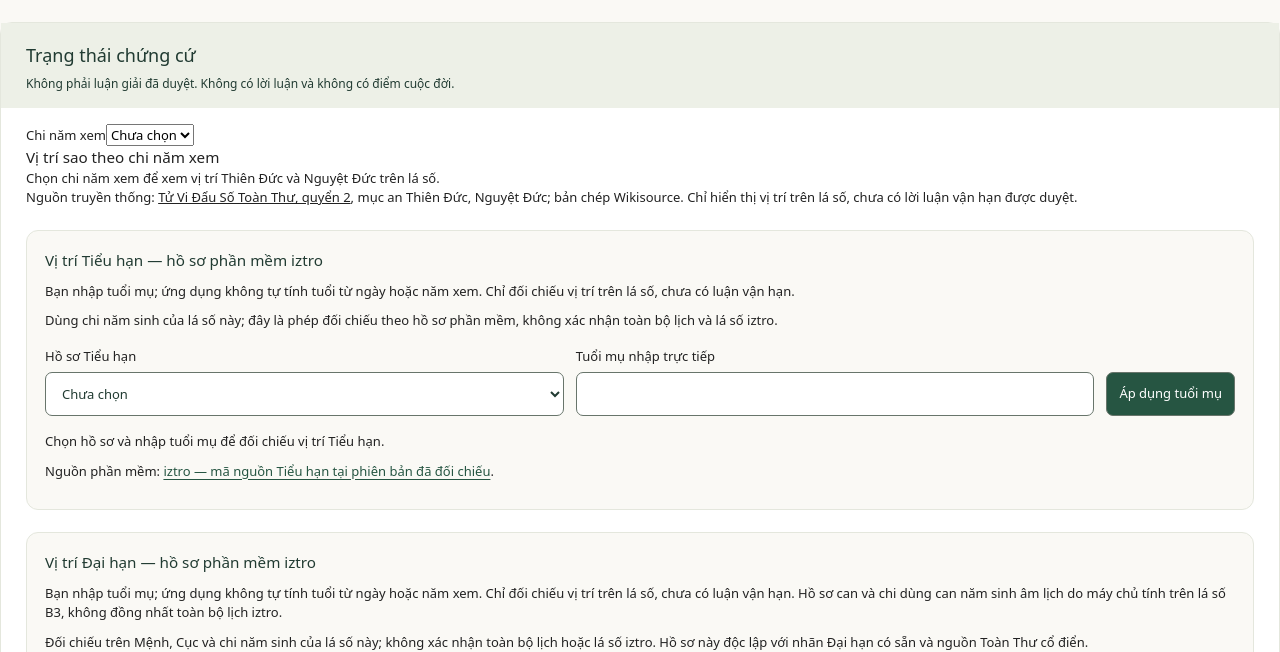
Test: StructuredAnalysis › ignores the late placement for a previously selected year
The image size is (1280, 652).
Select "Tí" in the dropdown labelled "Chi năm xem" at [150, 135], box [106, 124, 194, 146]
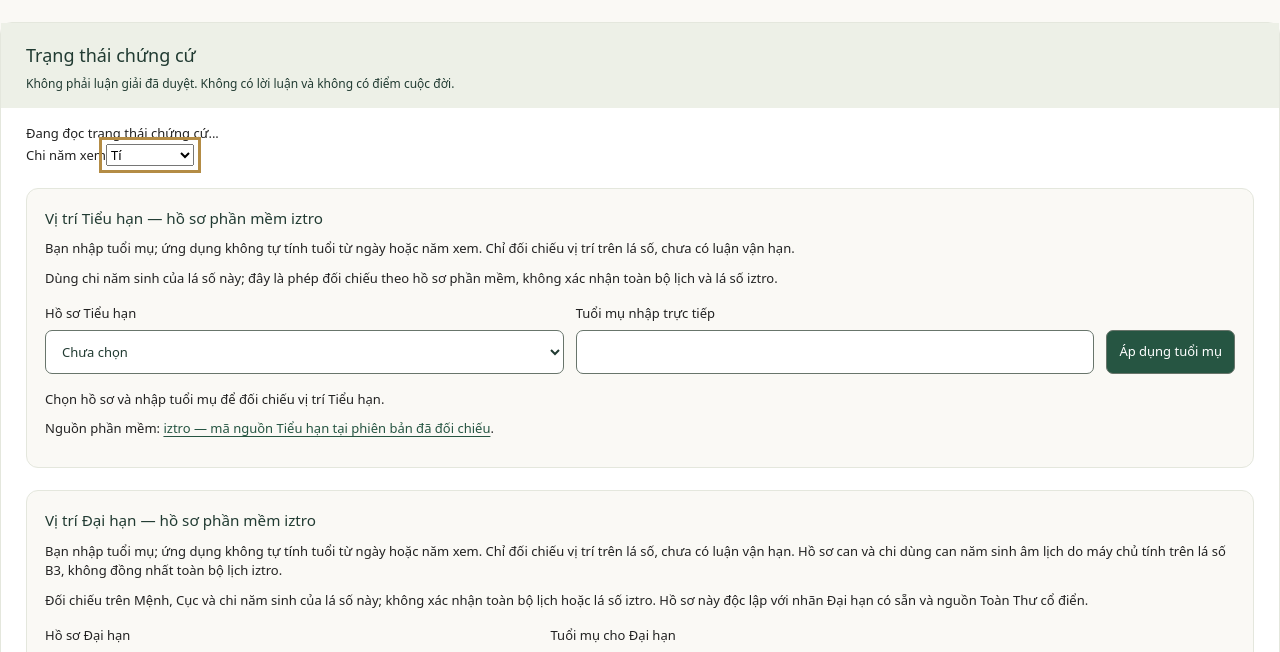
Select "Ngọ" in the dropdown labelled "Chi năm xem" at [150, 154], box [106, 144, 194, 166]
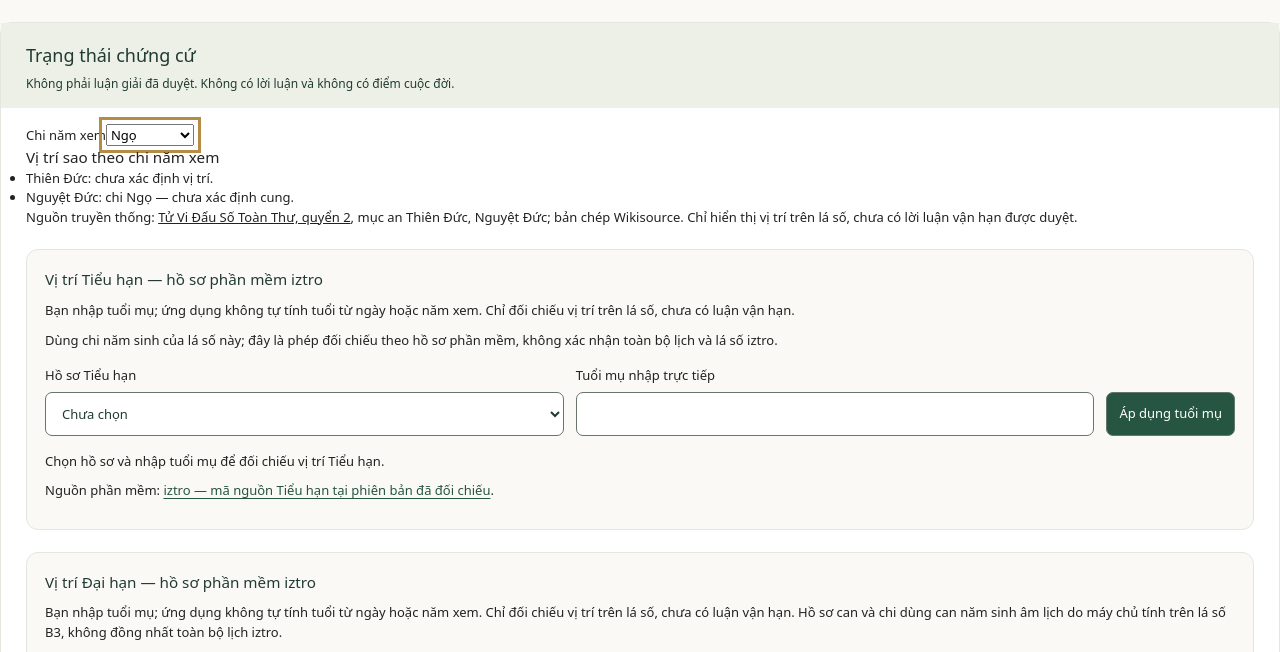
Expected: the list item "Nguyệt Đức: chi Ngọ — chưa xác định cung." is shown, [26, 188, 294, 206]
